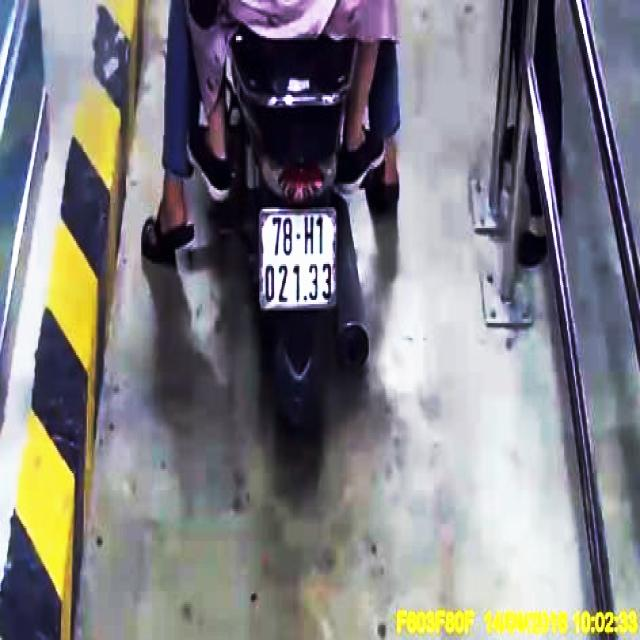license_plate: (260, 211, 340, 308)
